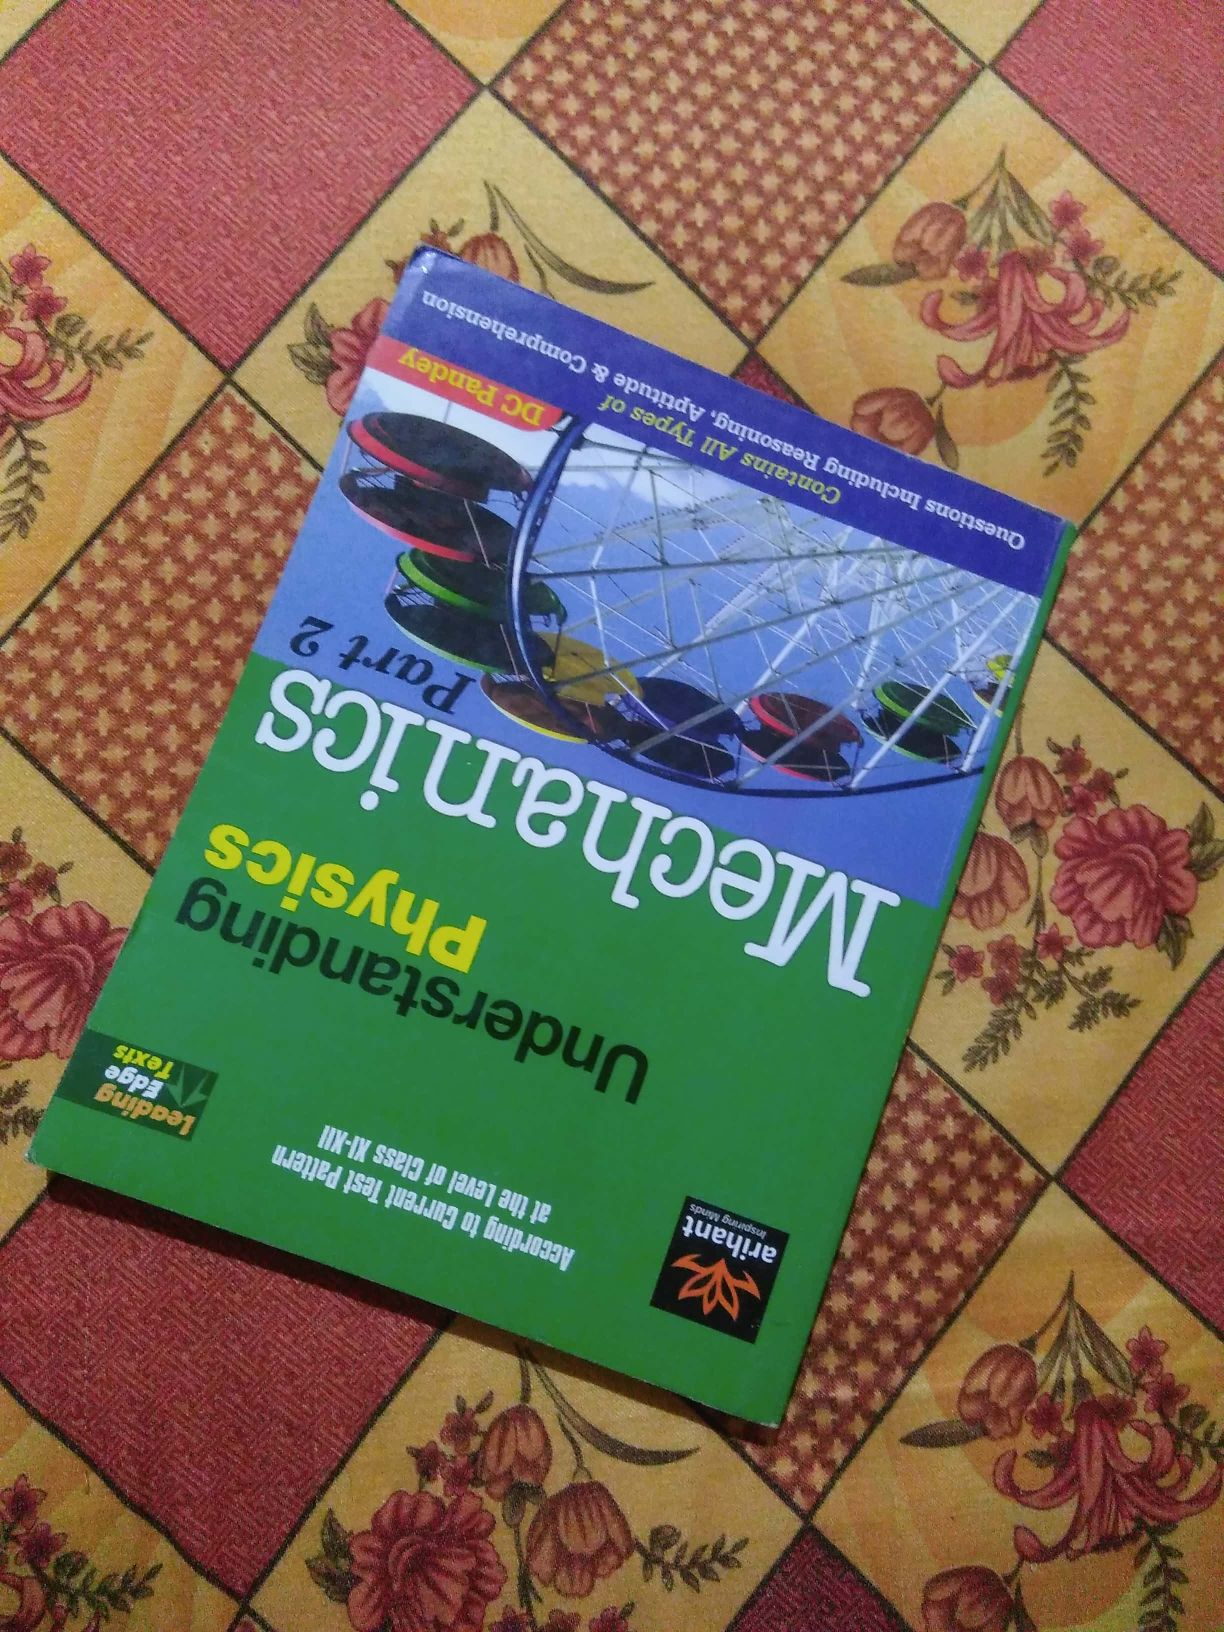mechanics: (87, 242, 1164, 1462)
